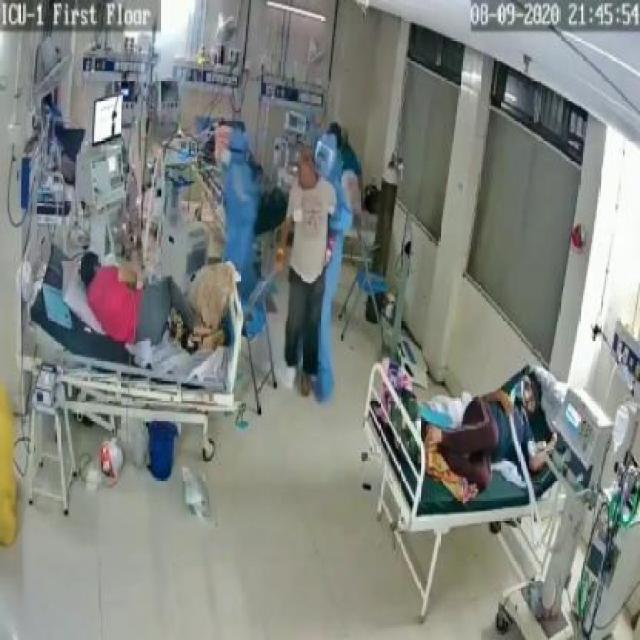smoke: (148, 39, 185, 81)
